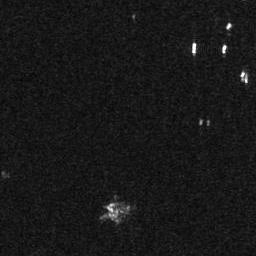ship: (190, 42, 197, 55), (221, 44, 227, 55), (225, 22, 233, 30)
